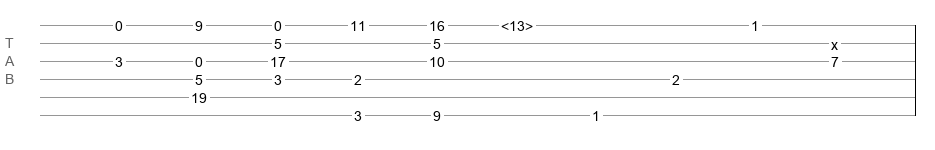0: (115, 18, 123, 28), (195, 54, 203, 64), (274, 18, 282, 28)
1: (592, 108, 600, 118), (751, 18, 759, 28)
10: (429, 54, 445, 64)
11: (350, 18, 366, 28)
16: (429, 18, 445, 28)
17: (270, 54, 286, 64)
19: (191, 90, 207, 100)
2: (354, 72, 362, 82), (672, 72, 680, 82)
3: (115, 54, 123, 64), (274, 72, 282, 82), (354, 108, 362, 118)
5: (195, 72, 203, 82), (274, 36, 282, 46), (433, 36, 441, 46)
7: (831, 54, 839, 64)
9: (195, 18, 203, 28), (433, 108, 441, 118)
harmonic: (501, 18, 533, 28)
x: (831, 37, 838, 45)
